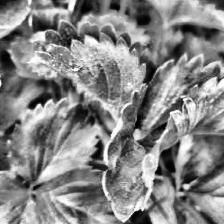Powdery Mildew Leaf: (102, 84, 212, 222), (24, 19, 150, 122), (136, 53, 224, 147)
